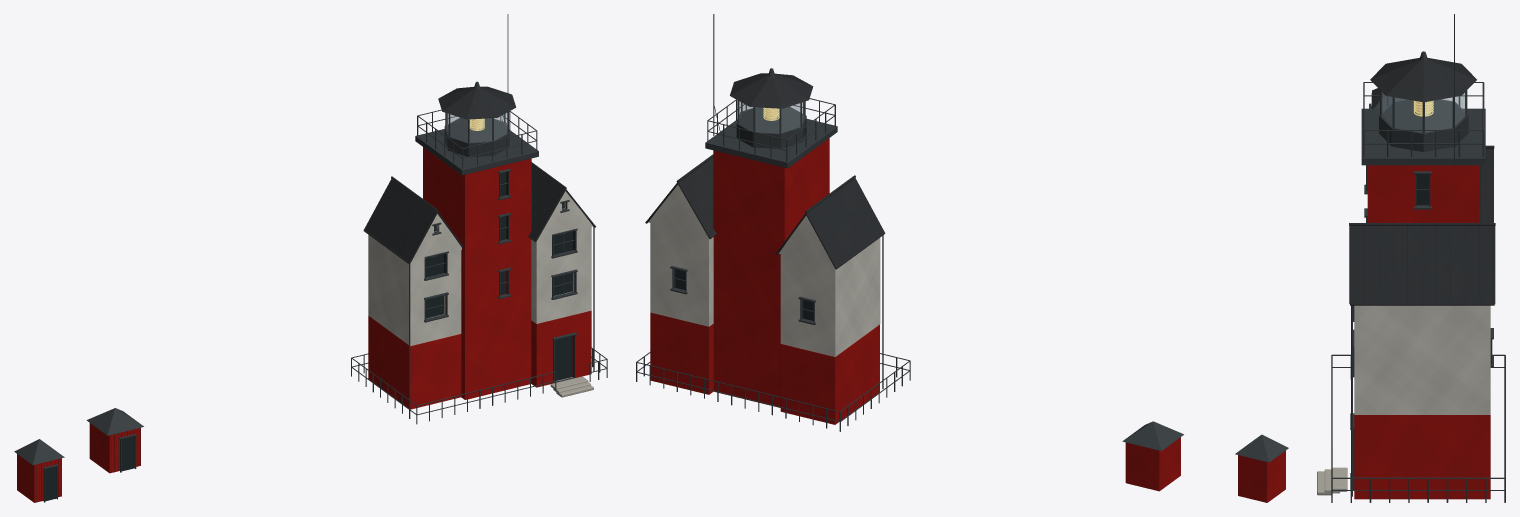
Rendered from lighthouse-architecture.glb.
The picture shows the model from 3 angles, left to right: view 1: azimuth 30°, elevation 25°; view 2: azimuth 150°, elevation 25°; view 3: azimuth 270°, elevation 25°; orthographic projection. The views are drawn at different scales.
Parts seen in each view (by area): view 1: Lighthouse_Duo_PaintedRed, Lighthouse_Duo_WhiteMasonry, Lighthouse_Duo_CharcoalMetal, Lighthouse_Weathered_zinc_roof, Lighthouse_Duo_PaintedRed.001, Lighthouse_Duo_WindowRecess, Lighthouse_Duo_WhiteMasonry.001, Cabin1_Duo_PaintedRed, Lighthouse_Duo_LanternGuideGlass, Cabin0_Duo_PaintedRed, Cabin1_Duo_CharcoalMetal, Cabin0_Duo_CharcoalMetal; view 2: Lighthouse_Duo_PaintedRed, Lighthouse_Duo_WhiteMasonry, Lighthouse_Duo_CharcoalMetal, Lighthouse_Weathered_zinc_roof, Lighthouse_Duo_PaintedRed.001, Lighthouse_Duo_WhiteMasonry.001, Cabin1_Duo_PaintedRed, Cabin0_Duo_PaintedRed, Lighthouse_Duo_LanternGuideGlass, Cabin1_Duo_CharcoalMetal, Cabin0_Duo_CharcoalMetal; view 3: Lighthouse_Duo_PaintedRed, Lighthouse_Weathered_zinc_roof, Lighthouse_Duo_WhiteMasonry, Lighthouse_Duo_CharcoalMetal, Lighthouse_Duo_LanternGuideGlass, Lighthouse, Lighthouse_Duo_WindowRecess, Cabin0_Duo_CharcoalMetal, Lighthouse_Warm_Fresnel_glass.
Part boxes in pixels (<box>): Lighthouse_Duo_PaintedRed: <box>423,147,591,399</box>; Lighthouse_Duo_WhiteMasonry: <box>368,227,591,345</box>; Lighthouse_Duo_CharcoalMetal: <box>351,14,607,424</box>; Lighthouse_Weathered_zinc_roof: <box>363,86,595,264</box>; Lighthouse_Duo_PaintedRed.001: <box>368,316,461,409</box>; Lighthouse_Duo_WindowRecess: <box>426,172,572,380</box>; Lighthouse_Duo_WhiteMasonry.001: <box>411,191,592,262</box>; Cabin1_Duo_PaintedRed: <box>89,423,140,473</box>; Lighthouse_Duo_LanternGuideGlass: <box>446,113,507,142</box>; Cabin0_Duo_PaintedRed: <box>17,454,61,502</box>; Cabin1_Duo_CharcoalMetal: <box>86,408,143,472</box>; Cabin0_Duo_CharcoalMetal: <box>14,439,64,502</box>; Lighthouse_Duo_PaintedRed: <box>650,138,829,407</box>; Lighthouse_Duo_WhiteMasonry: <box>650,223,880,356</box>; Lighthouse_Duo_CharcoalMetal: <box>636,14,910,431</box>; Lighthouse_Weathered_zinc_roof: <box>645,73,885,269</box>; Lighthouse_Duo_PaintedRed.001: <box>780,324,879,424</box>; Lighthouse_Duo_WhiteMasonry.001: <box>648,185,833,266</box>; Cabin1_Duo_PaintedRed: <box>1125,437,1180,491</box>; Cabin0_Duo_PaintedRed: <box>1238,450,1285,502</box>; Lighthouse_Duo_LanternGuideGlass: <box>739,101,804,133</box>; Cabin1_Duo_CharcoalMetal: <box>1122,421,1183,450</box>; Cabin0_Duo_CharcoalMetal: <box>1235,434,1288,462</box>; Lighthouse_Duo_PaintedRed: <box>1354,165,1490,499</box>; Lighthouse_Weathered_zinc_roof: <box>1349,57,1495,305</box>; Lighthouse_Duo_WhiteMasonry: <box>1354,305,1490,414</box>; Lighthouse_Duo_CharcoalMetal: <box>1331,14,1505,502</box>; Lighthouse_Duo_LanternGuideGlass: <box>1382,92,1465,132</box>; Lighthouse: <box>1317,467,1347,495</box>; Lighthouse_Duo_WindowRecess: <box>1416,174,1429,204</box>; Cabin0_Duo_CharcoalMetal: <box>1369,88,1404,108</box>; Lighthouse_Warm_Fresnel_glass: <box>1413,100,1433,116</box>.
Bounding box in the file's own units: 25.25 × 14.92 × 5.56.
8 materials, 3 textured.
